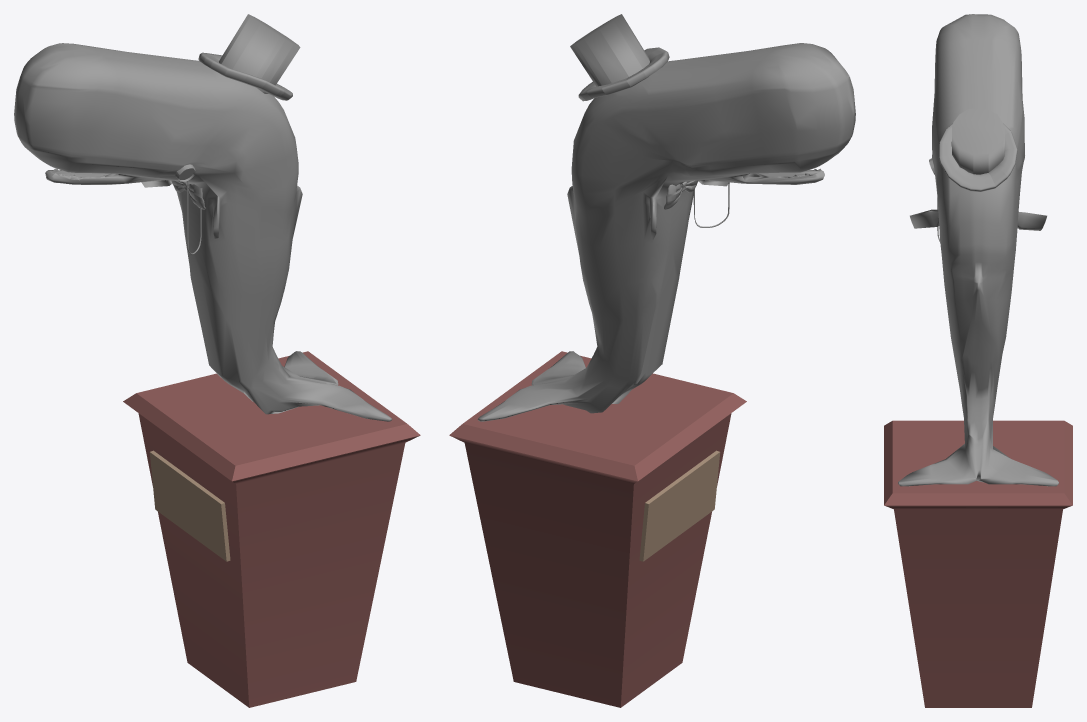
Rendered from WhaleStatue.fbx.
3 renders of one model, left to right at view 1: azimuth 30°, elevation 25°; view 2: azimuth 150°, elevation 25°; view 3: azimuth 270°, elevation 25°, orthographic. The views are drawn at different scales.
Parts seen in each view (by area): view 1: WhaleStatue1; view 2: WhaleStatue1; view 3: WhaleStatue1.
Part boxes in pixels (x1=…): WhaleStatue1: x1=14, y1=14, x2=420, y2=707; WhaleStatue1: x1=449, y1=14, x2=855, y2=707; WhaleStatue1: x1=884, y1=14, x2=1072, y2=707.
Bounding box in the file's own units: 45.22 × 83.61 × 24.73.
